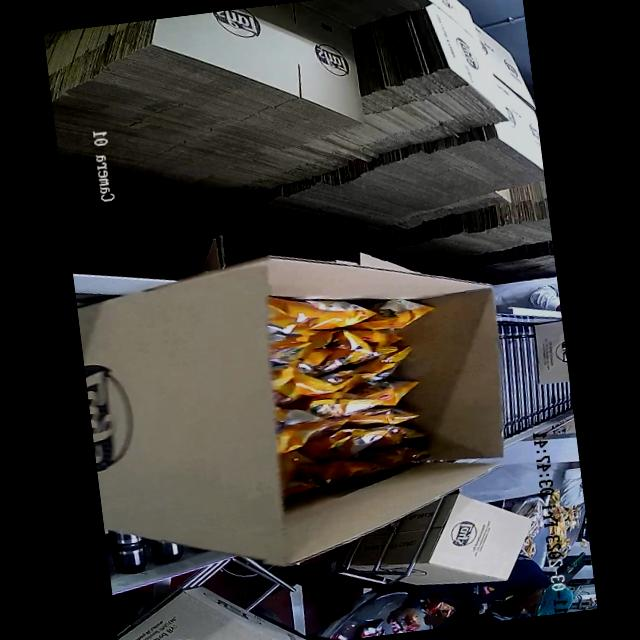cheese: (250, 287, 423, 495)
